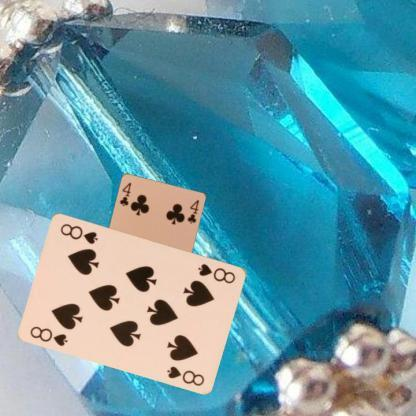4c: (118, 180, 132, 208)
8s: (195, 260, 237, 285), (28, 323, 70, 348)
